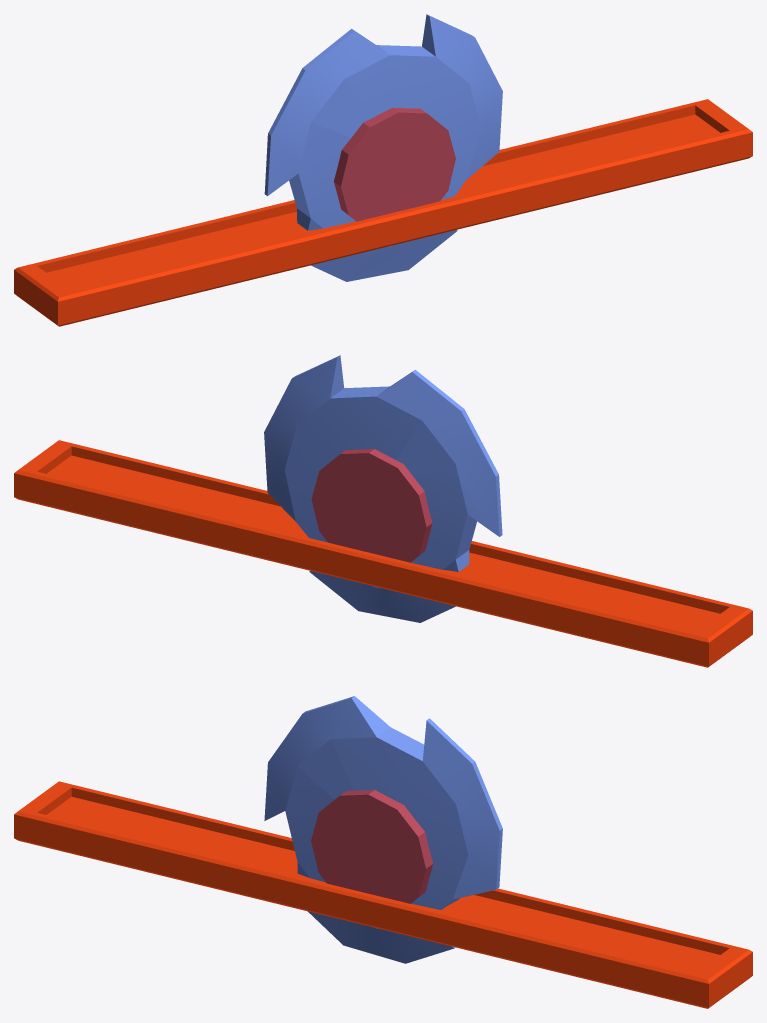
Rendered from obstacle_model_2.fbx.
3 views of the same model, one above another, from view 1: azimuth 30°, elevation 25°; view 2: azimuth 150°, elevation 25°; view 3: azimuth 330°, elevation 25° (orthographic).
Parts seen in each view (by area): view 1: pCube10, pCylinder4, pCylinder5; view 2: pCube10, pCylinder4, pCylinder5; view 3: pCube10, pCylinder4, pCylinder5.
Boxes of the visible parts, x1,y1,x2,y2 form: pCube10: [14, 99, 752, 326]; pCylinder4: [264, 14, 502, 281]; pCylinder5: [334, 107, 455, 221]; pCube10: [14, 440, 752, 667]; pCylinder4: [264, 355, 502, 622]; pCylinder5: [311, 449, 432, 562]; pCube10: [14, 781, 752, 1008]; pCylinder4: [264, 696, 502, 963]; pCylinder5: [311, 790, 433, 903].
Size of the model in its own units: 0.6621 by 6.04 by 2.1.
